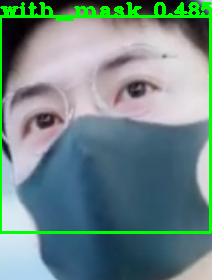with_mask: (1, 16, 212, 253)
